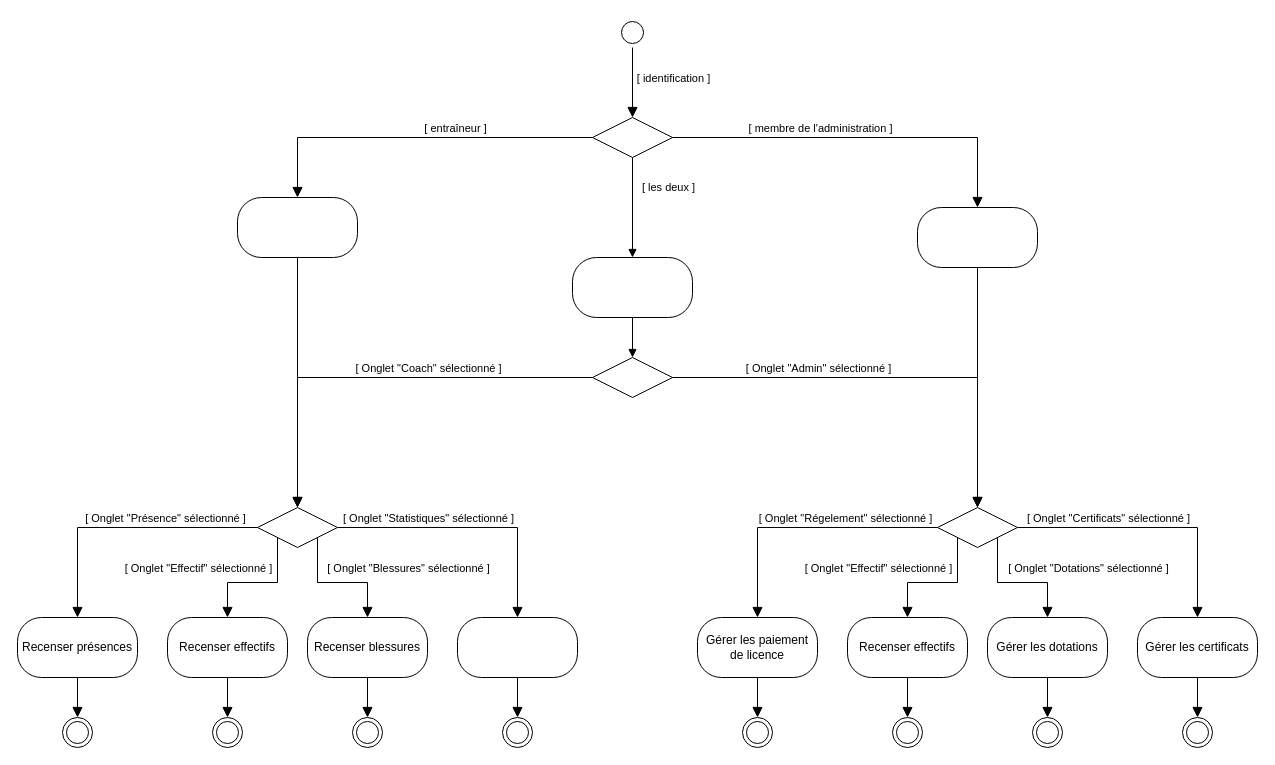
Some shapes in this 1275 by 765 pixel diagram are drawn without their labels. Each missing label, with the centre of its shape:
Afficher le menu "Administration": point 977,237
Afficher le menu "Coach": point 297,227
Afficher le menu "Coach" et "Administration": point 632,287
Gérer les statistiques: point 517,647
